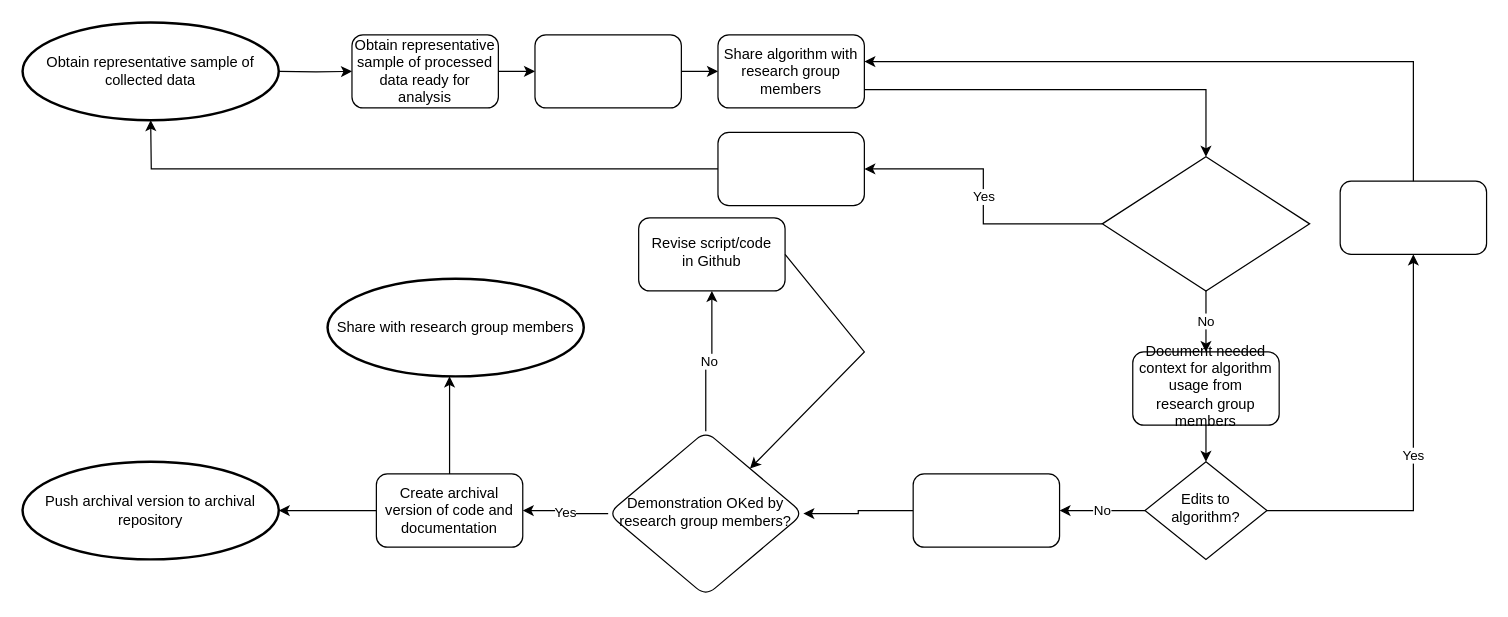
Some shapes in this 1508 by 617 pixel diagram are drawn without their labels. Each missing label, with the centre of its shape:
Develop algorithm for automated processing of collected data: the point at 607,71
Edits to data collection process?: the point at 1205,223
Research group edits collected data: the point at 790,168
Revise algorithm: the point at 1413,217
Write script/code and documentation based on algorithm: the point at 986,510
